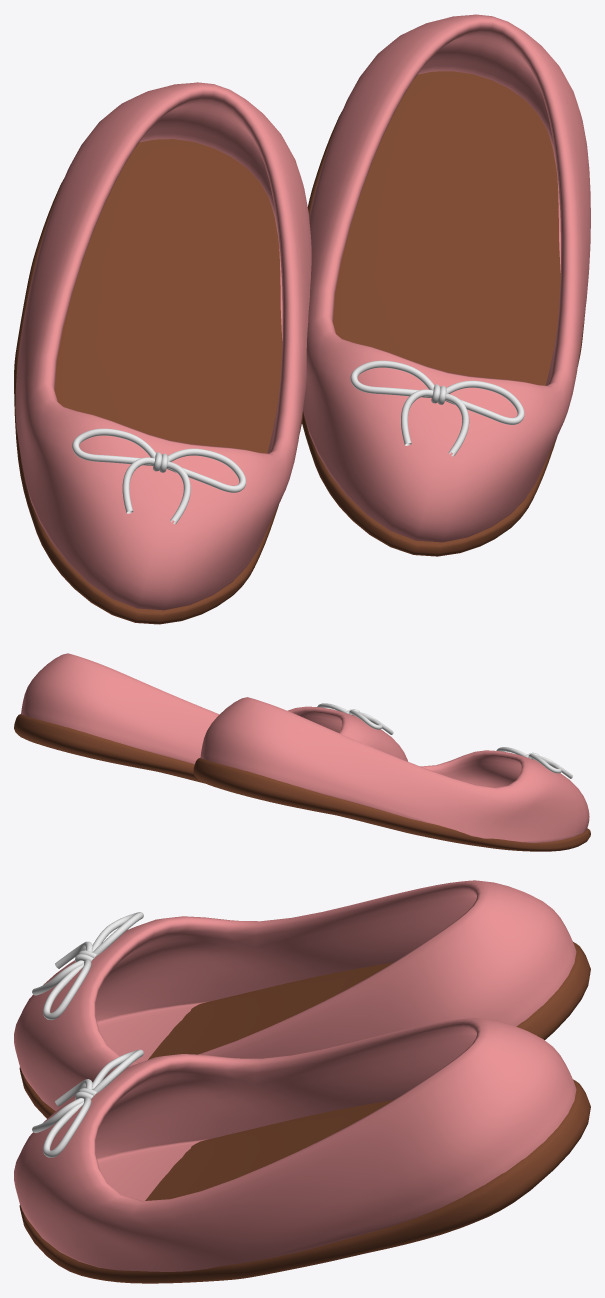
3 views of the same model, one above another, from view 1: azimuth 30°, elevation 25°; view 2: azimuth 150°, elevation 25°; view 3: azimuth 270°, elevation 25° (orthographic). The views are drawn at different scales.
Visible parts, largest first — view 1: Cylinder.069, Cylinder.026, Cylinder.070, Cylinder.025, NurbsPath.051, NurbsPath.041, NurbsPath.052, NurbsPath.042; view 2: Cylinder.069, Cylinder.026, Cylinder.070, Cylinder.025, NurbsPath.041, NurbsPath.051; view 3: Cylinder.026, Cylinder.069, Cylinder.025, Cylinder.070, NurbsPath.041, NurbsPath.051, NurbsPath.052, NurbsPath.042.
Part boxes in pixels (left/top/right/bottom): Cylinder.069: left=15, top=82, right=311, bottom=610; Cylinder.026: left=303, top=14, right=590, bottom=542; Cylinder.070: left=14, top=139, right=302, bottom=624; Cylinder.025: left=302, top=71, right=585, bottom=556; NurbsPath.051: left=72, top=428, right=246, bottom=492; NurbsPath.041: left=350, top=360, right=524, bottom=424; NurbsPath.052: left=122, top=457, right=190, bottom=524; NurbsPath.042: left=401, top=389, right=469, bottom=456; Cylinder.069: left=200, top=697, right=589, bottom=842; Cylinder.026: left=21, top=653, right=407, bottom=764; Cylinder.070: left=193, top=758, right=590, bottom=851; Cylinder.025: left=14, top=714, right=205, bottom=783; NurbsPath.041: left=317, top=703, right=382, bottom=729; NurbsPath.051: left=496, top=747, right=561, bottom=773; Cylinder.026: left=14, top=1018, right=576, bottom=1271; Cylinder.069: left=14, top=880, right=576, bottom=1110; Cylinder.025: left=19, top=1079, right=590, bottom=1283; Cylinder.070: left=19, top=942, right=590, bottom=1118; NurbsPath.041: left=43, top=1049, right=143, bottom=1157; NurbsPath.051: left=43, top=912, right=143, bottom=1020; NurbsPath.052: left=32, top=941, right=92, bottom=995; NurbsPath.042: left=32, top=1079, right=92, bottom=1132.
Bounding box in the file's own units: 3.53 × 1.56 × 2.55.
